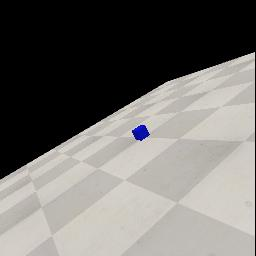box: (132, 125, 150, 141)
